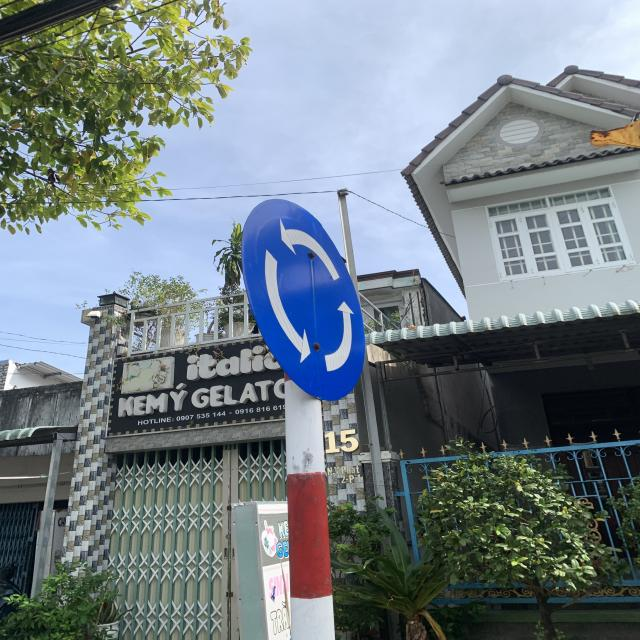Xe_Bus: (238, 197, 368, 401)
